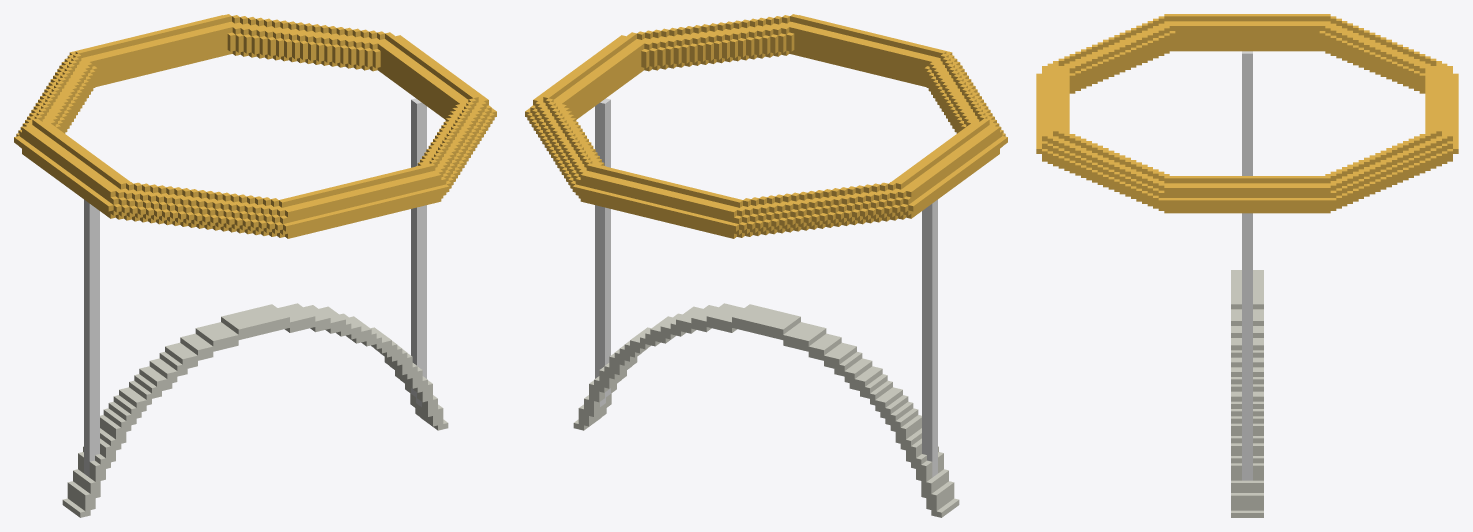
The model's file is angel_halo_headband.glb.
3 renders of one model, left to right at view 1: azimuth 30°, elevation 25°; view 2: azimuth 150°, elevation 25°; view 3: azimuth 270°, elevation 25°, orthographic. The views are drawn at different scales.
Visible parts, largest first — view 1: angel_halo_headband:compound; view 2: angel_halo_headband:compound; view 3: angel_halo_headband:compound.
Part boxes in pixels (x1,y1,x2,y2): angel_halo_headband:compound: [14, 14, 496, 517]; angel_halo_headband:compound: [525, 14, 1007, 517]; angel_halo_headband:compound: [1036, 14, 1458, 517].
Bounding box in the file's own units: 0.152 × 0.134 × 0.152.
